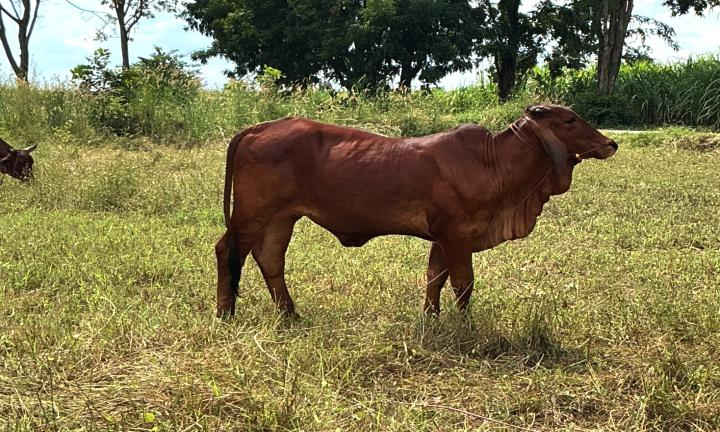Brahman: (216, 105, 618, 313)
